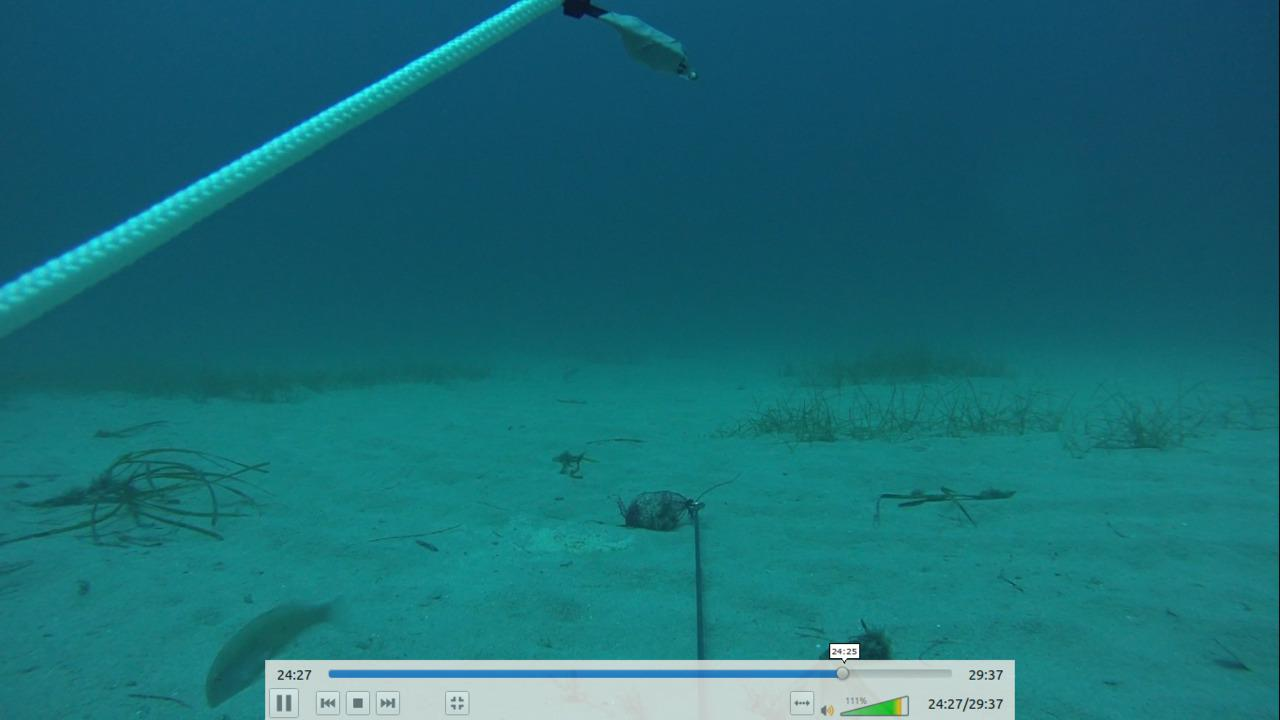raor: (199, 599, 350, 705)
